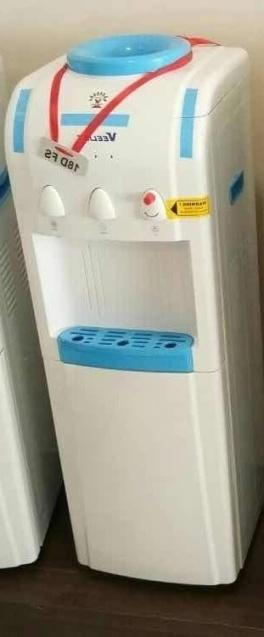Dispenser: (2, 34, 263, 585)
